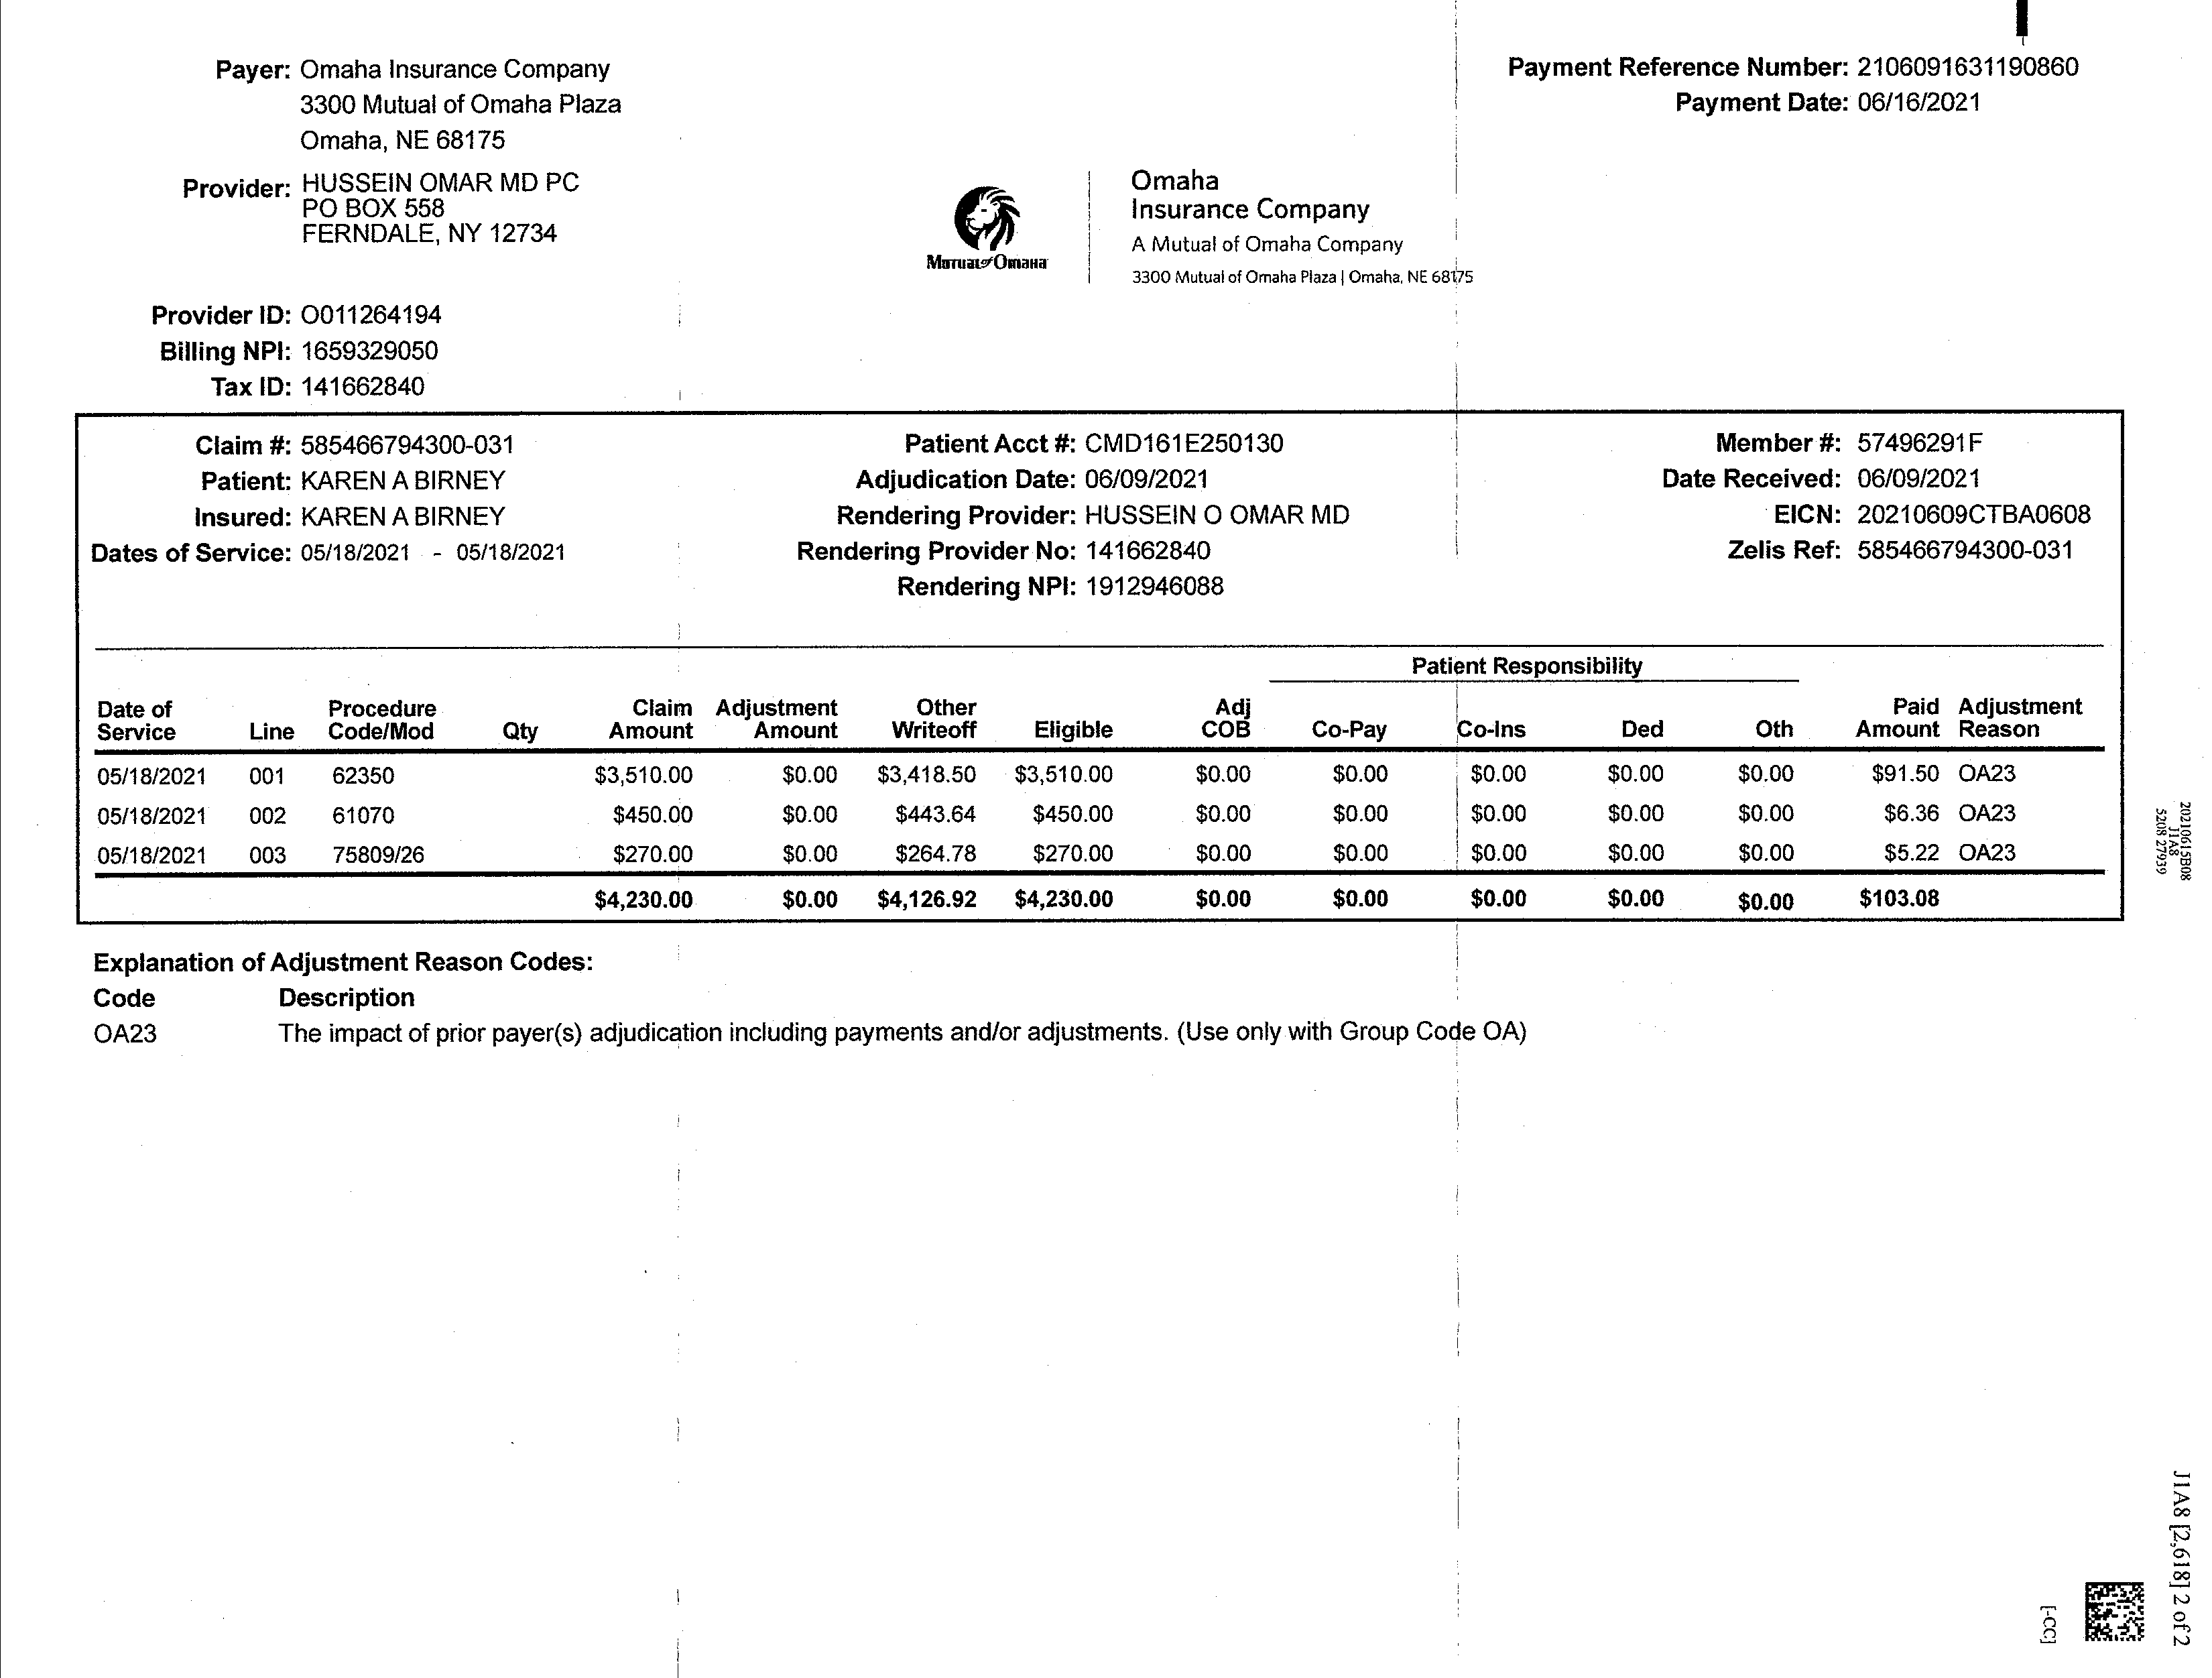data: (786, 418, 1357, 617), (145, 49, 643, 275), (79, 419, 599, 587), (1662, 421, 2101, 585), (1503, 44, 2097, 132), (146, 293, 442, 409)
table: (92, 680, 2106, 922)
